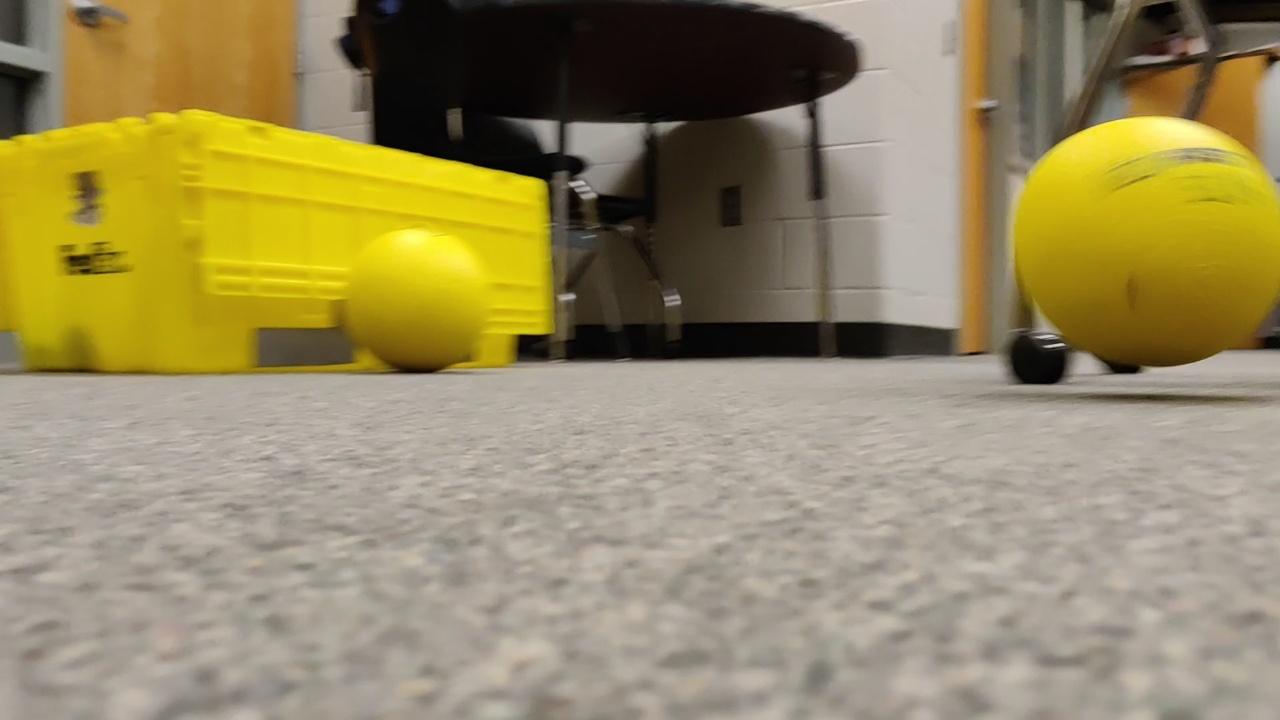Ball: (1018, 112, 1266, 359), (341, 231, 480, 372)
